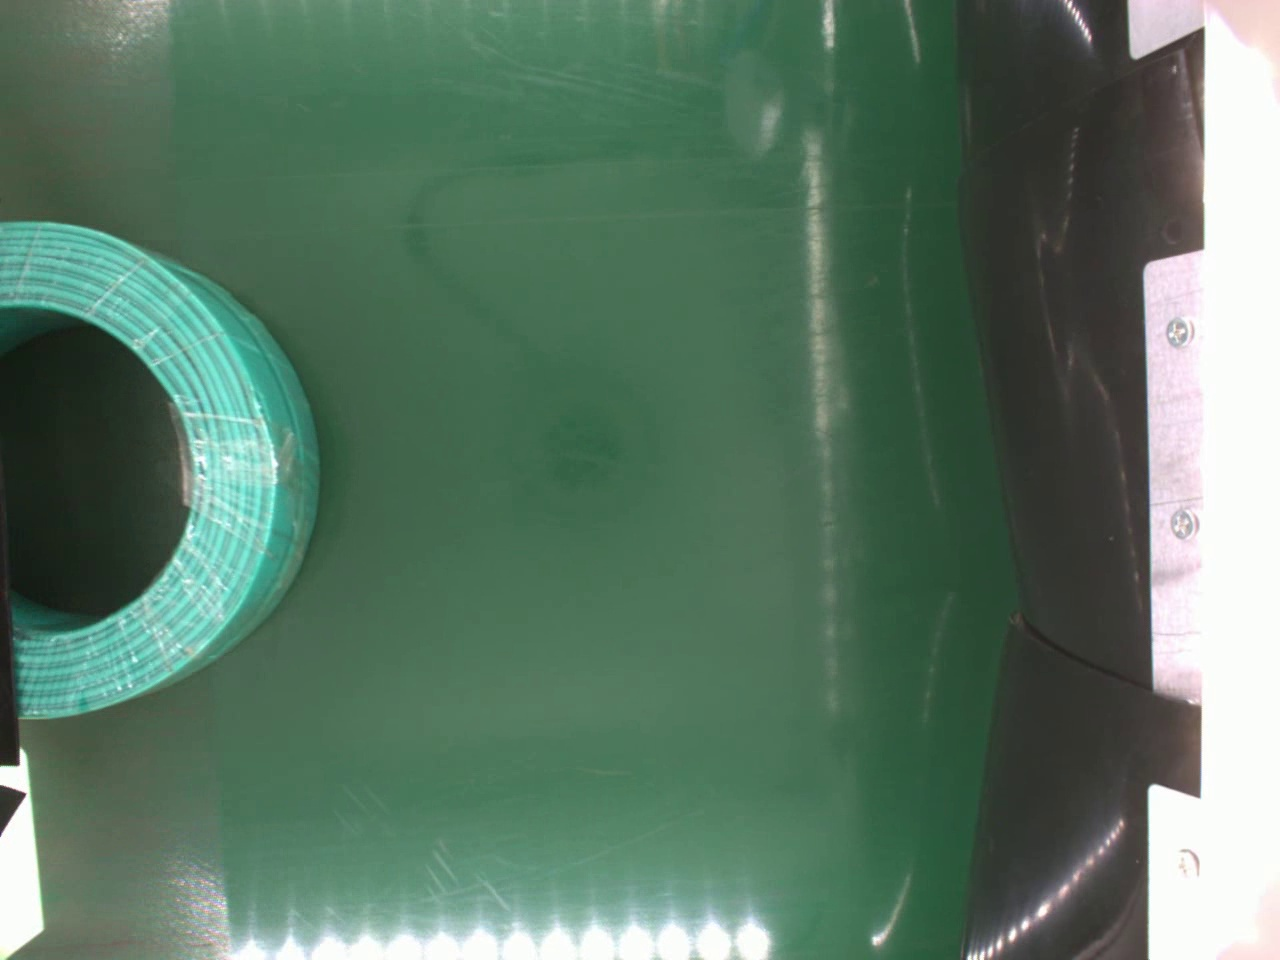green: (0, 218, 326, 717)
